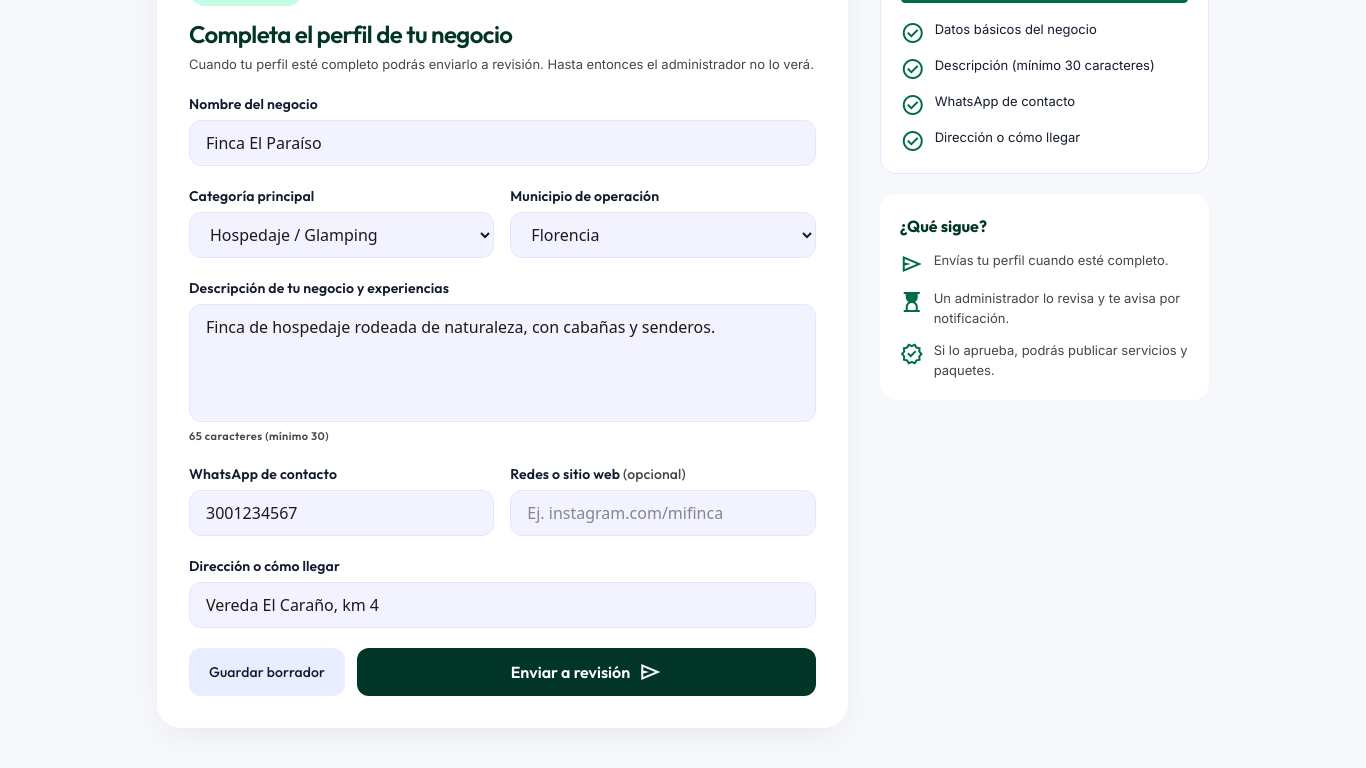
Test case: CompletarPerfil › si el servidor rechaza el envío muestra el motivo y permite reintentar
(page scrolled)
Click the button "Enviar a revisión" at (586, 672), box [357,648,816,696]
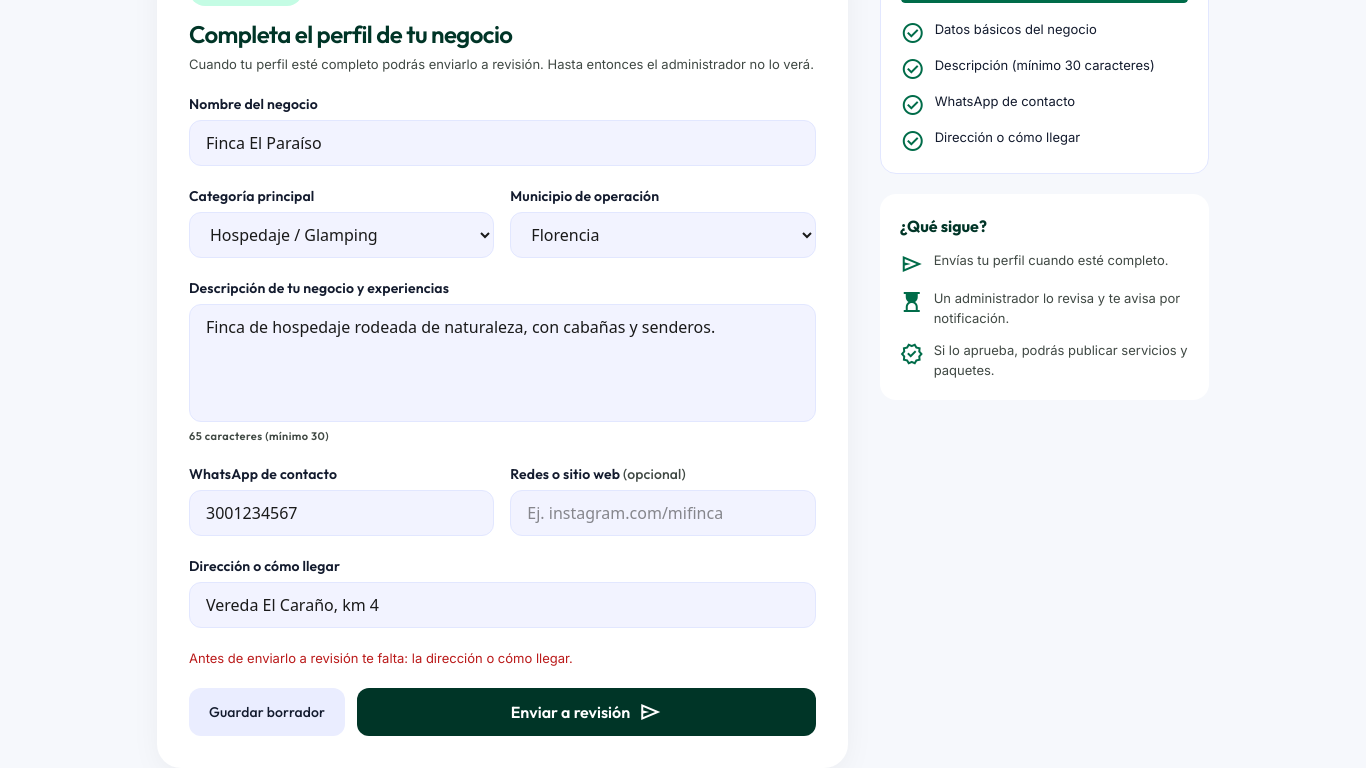
Expected: the button "Enviar a revisión" is enabled, [357,688,816,736]
Expected: the text "te falta: la dirección" is shown, [189,650,573,666]
